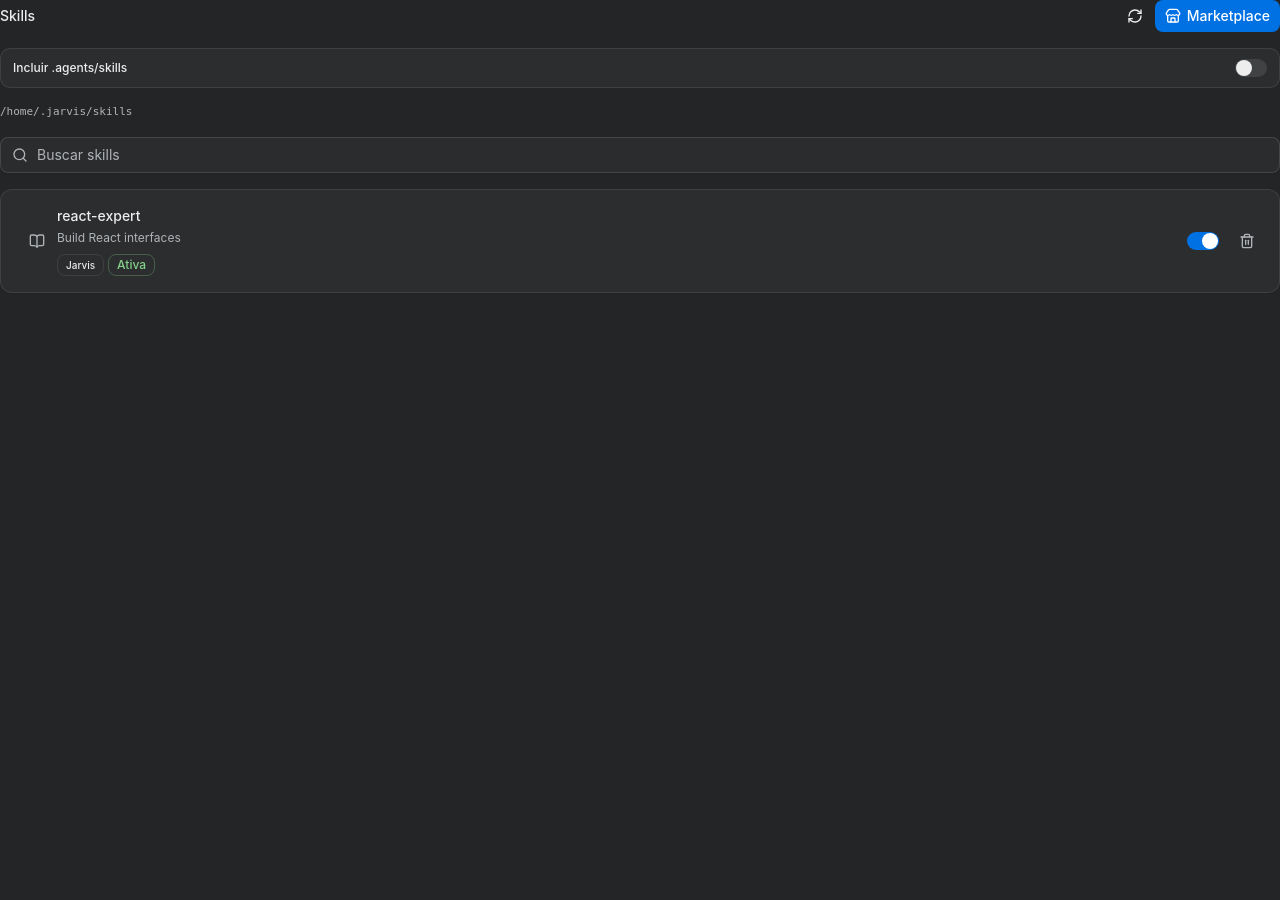
Test case: SkillsSettings › confirma exclusão, permite cancelar e atualiza a contagem após excluir
The width and height of the screenshot is (1280, 900).
Click the button named "Excluir react-expert".
click(1247, 241)  # box [1231, 225, 1263, 257]
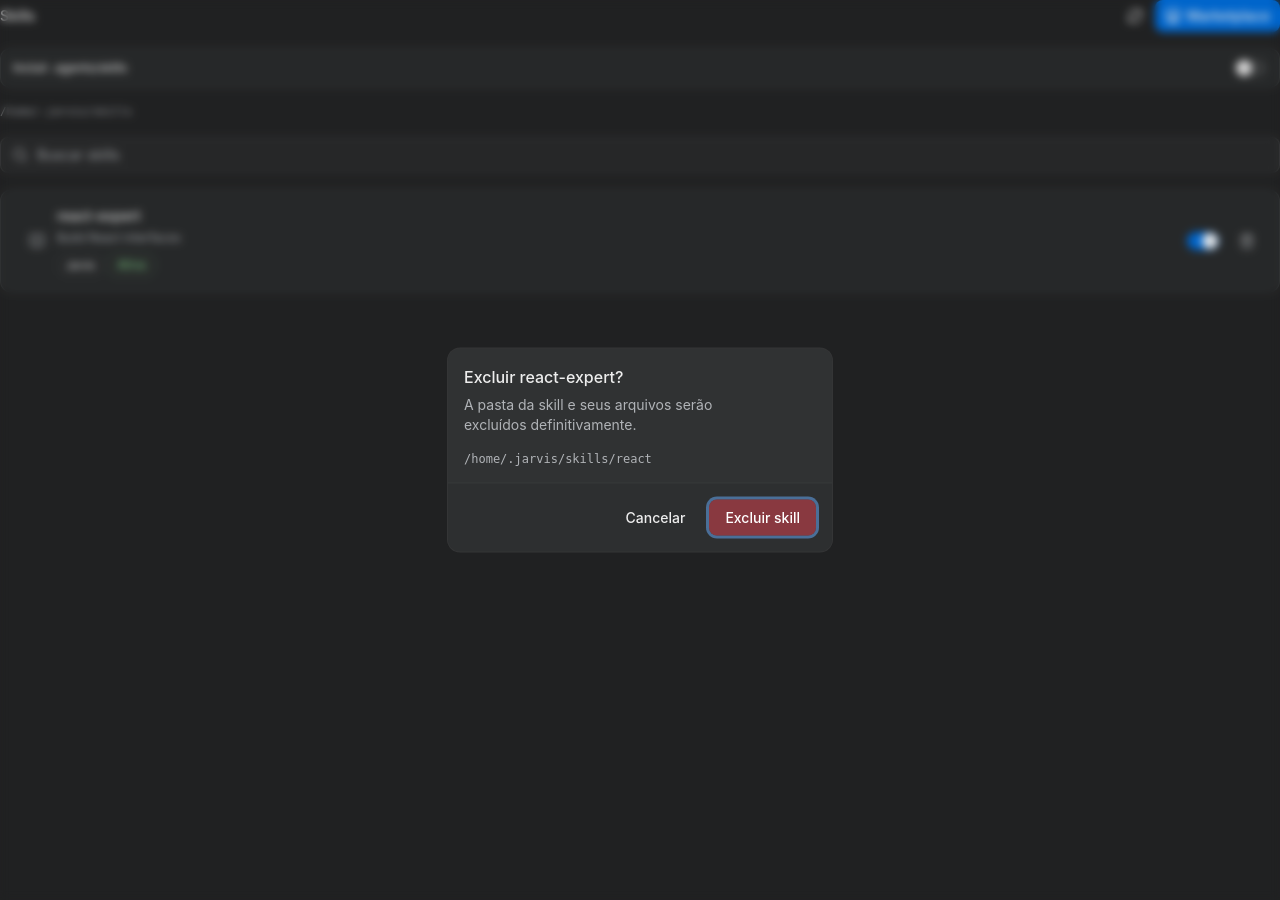
Check: the text "excluídos definitivamente" is shown, box [464, 396, 712, 432]
Click the button "Cancelar".
click(656, 518)  # box [610, 500, 701, 536]
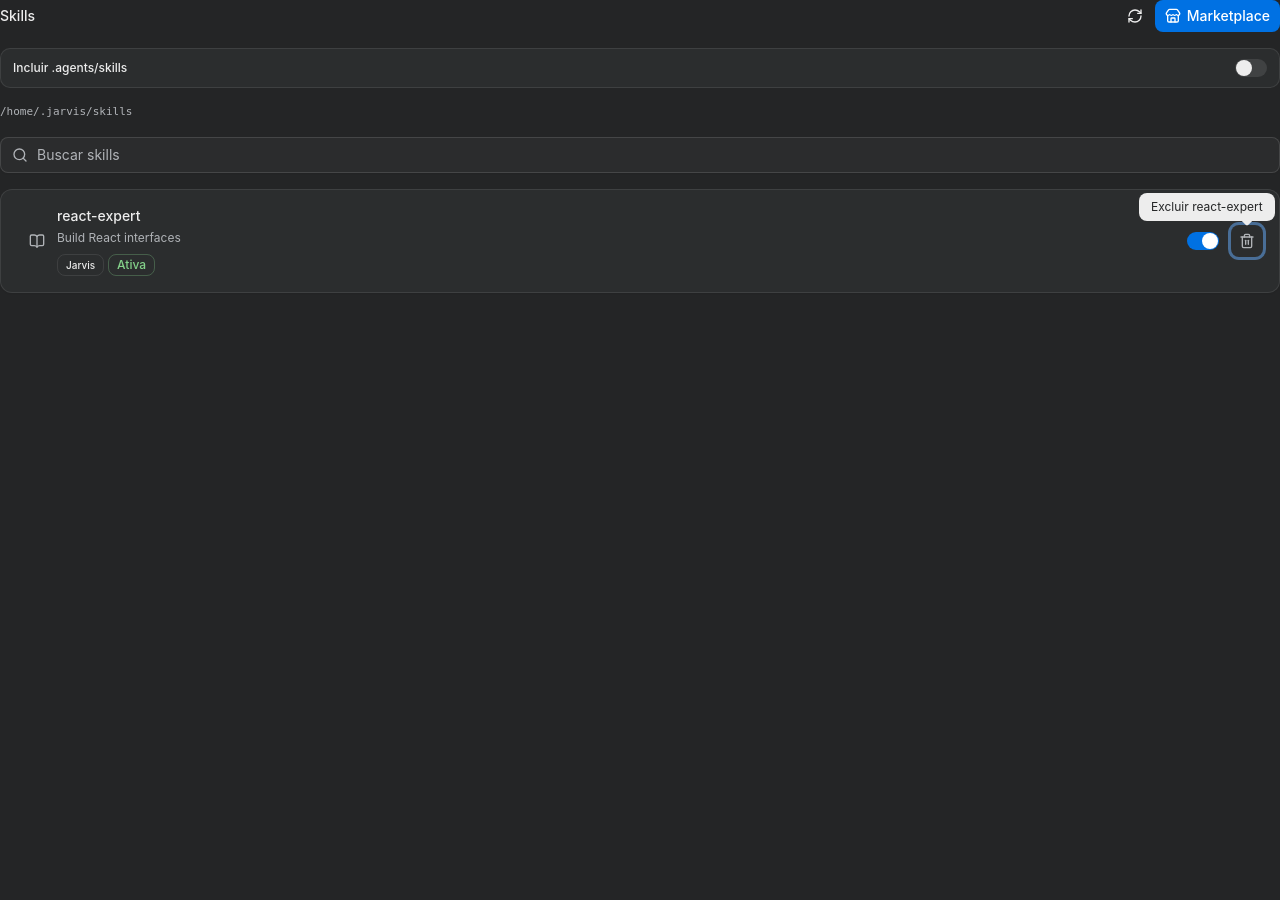
Check: the button with aria-label "Detalhes de react-expert" is shown, box [17, 206, 1175, 276]
Click the button named "Excluir react-expert".
click(1247, 241)  # box [1231, 225, 1263, 257]
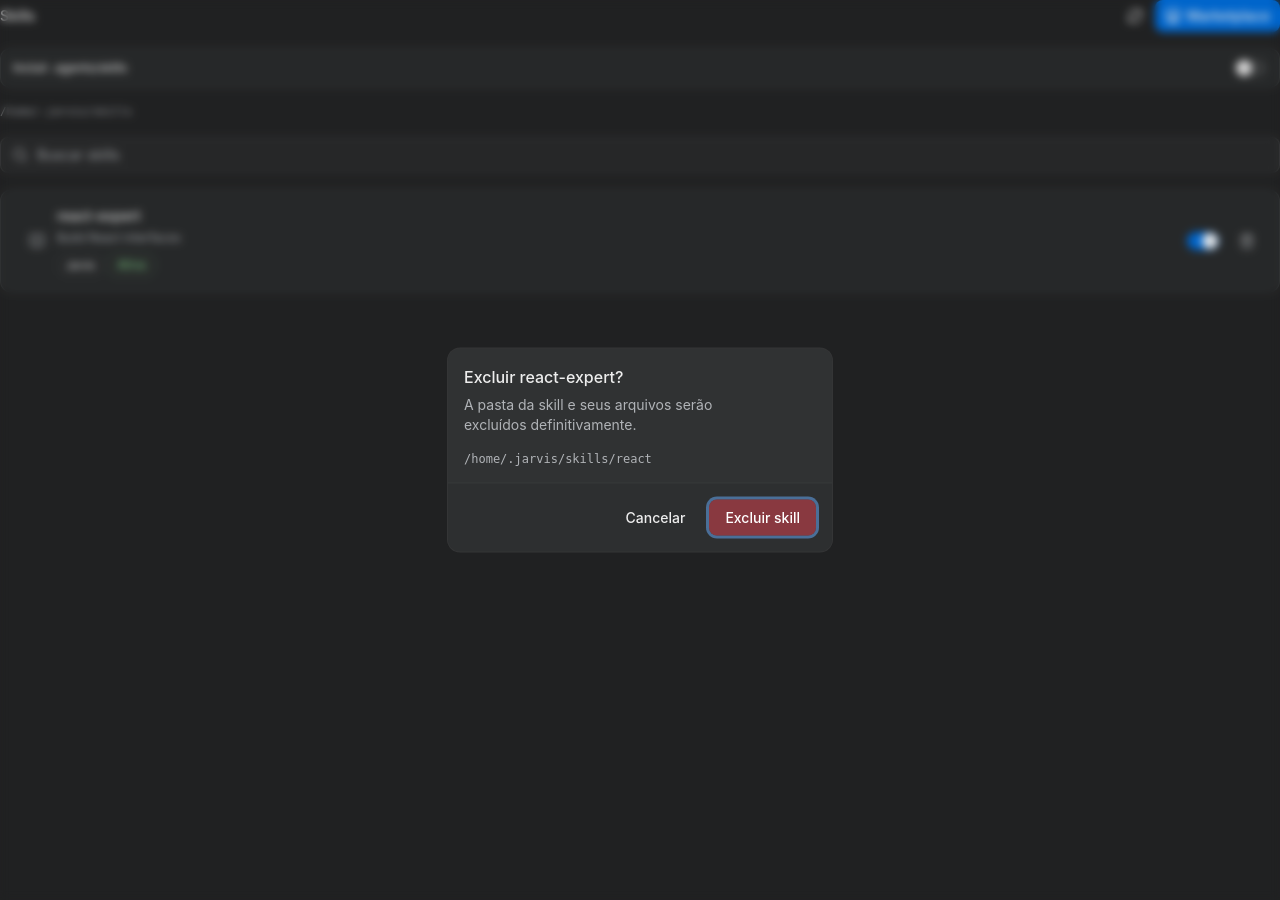
Click the button "Excluir skill".
click(763, 518)  # box [709, 500, 816, 536]
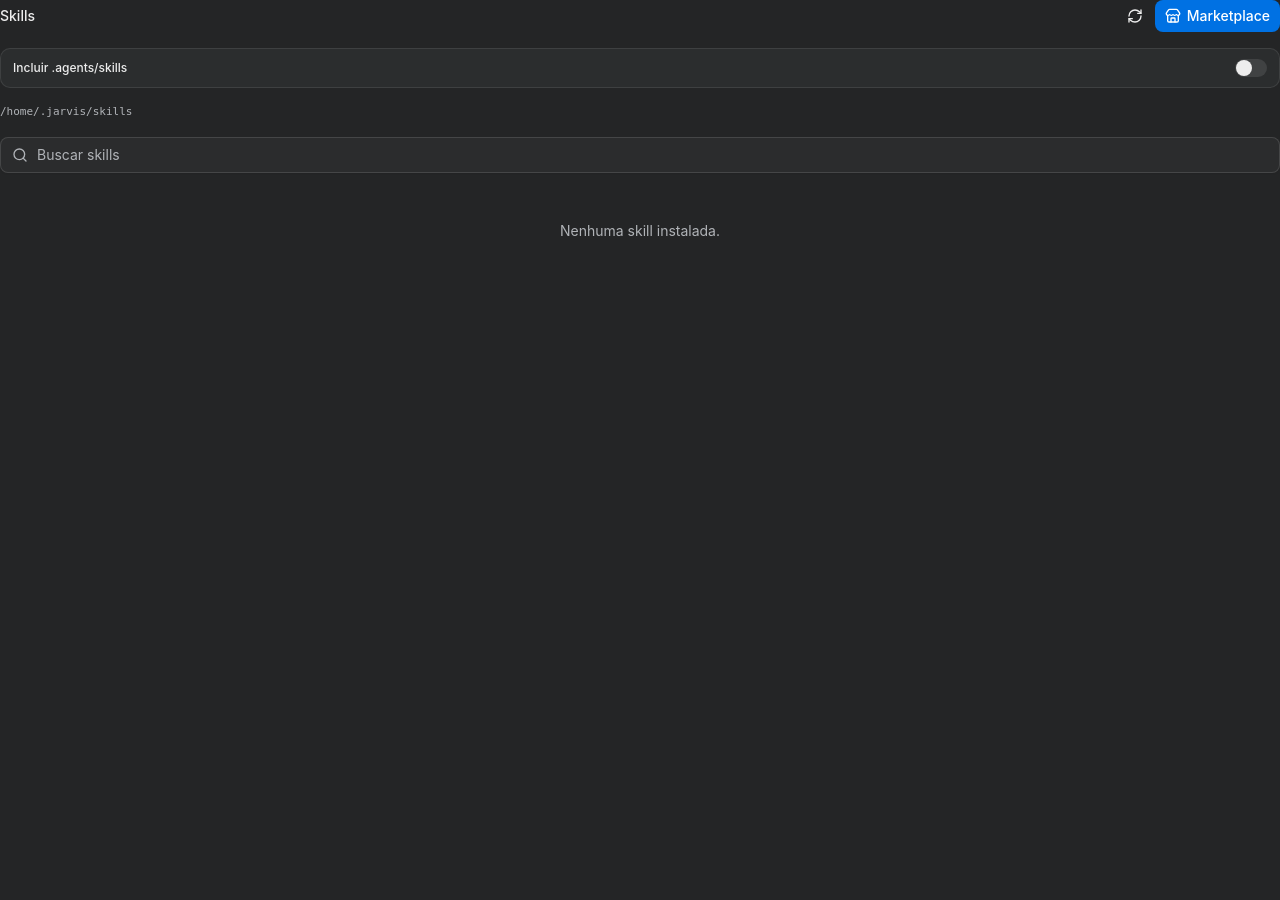
Check: the text "Nenhuma skill instalada." is shown, box [560, 222, 720, 239]
